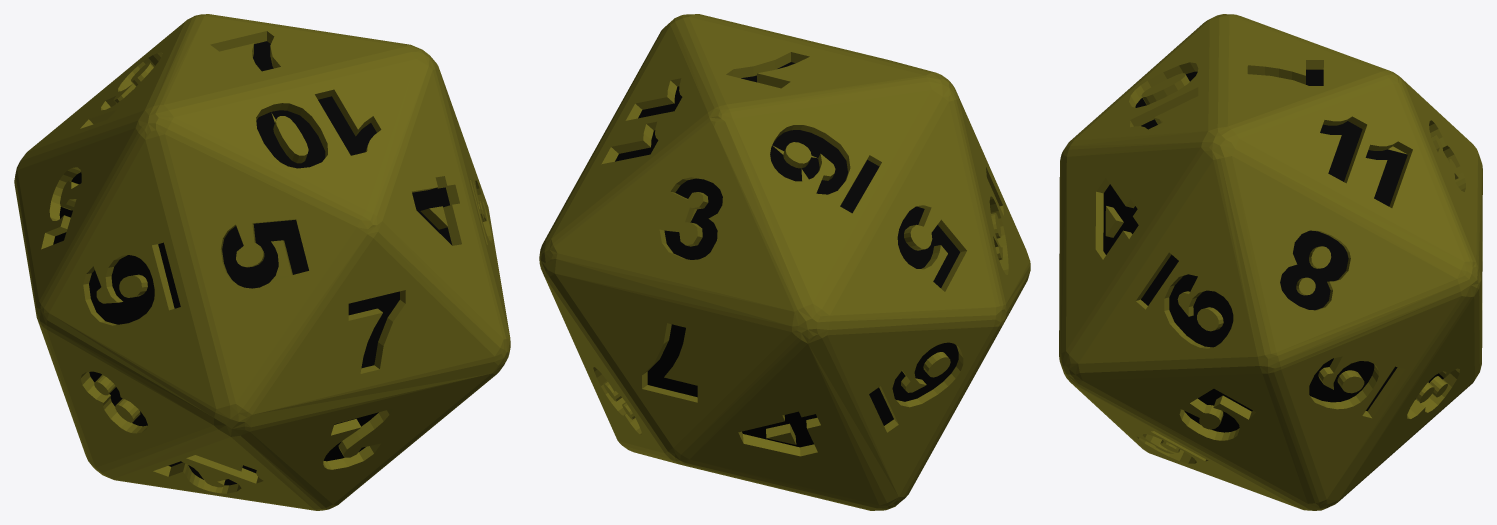
The picture shows the model from 3 angles, left to right: view 1: azimuth 30°, elevation 25°; view 2: azimuth 150°, elevation 25°; view 3: azimuth 270°, elevation 25°; orthographic projection. The views are drawn at different scales.
Visible parts, largest first — view 1: 2d6_FACE_REFERENCE_NOT_FOR_PRINTING.001; view 2: 2d6_FACE_REFERENCE_NOT_FOR_PRINTING.001; view 3: 2d6_FACE_REFERENCE_NOT_FOR_PRINTING.001.
Part boxes in pixels (left/top/right/bottom): 2d6_FACE_REFERENCE_NOT_FOR_PRINTING.001: left=14, top=14, right=510, bottom=510; 2d6_FACE_REFERENCE_NOT_FOR_PRINTING.001: left=539, top=14, right=1030, bottom=510; 2d6_FACE_REFERENCE_NOT_FOR_PRINTING.001: left=1059, top=14, right=1482, bottom=510.
Bounding box in the file's own units: 7.67 × 6.72 × 6.75.
